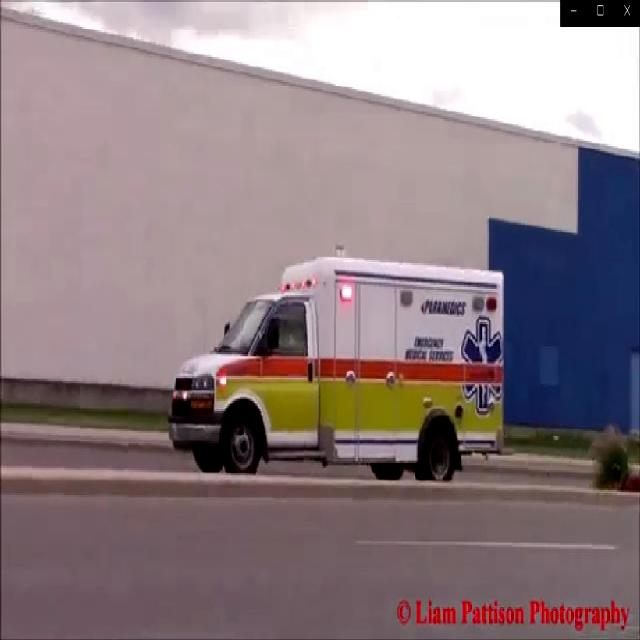emergency: (167, 256, 503, 477)
